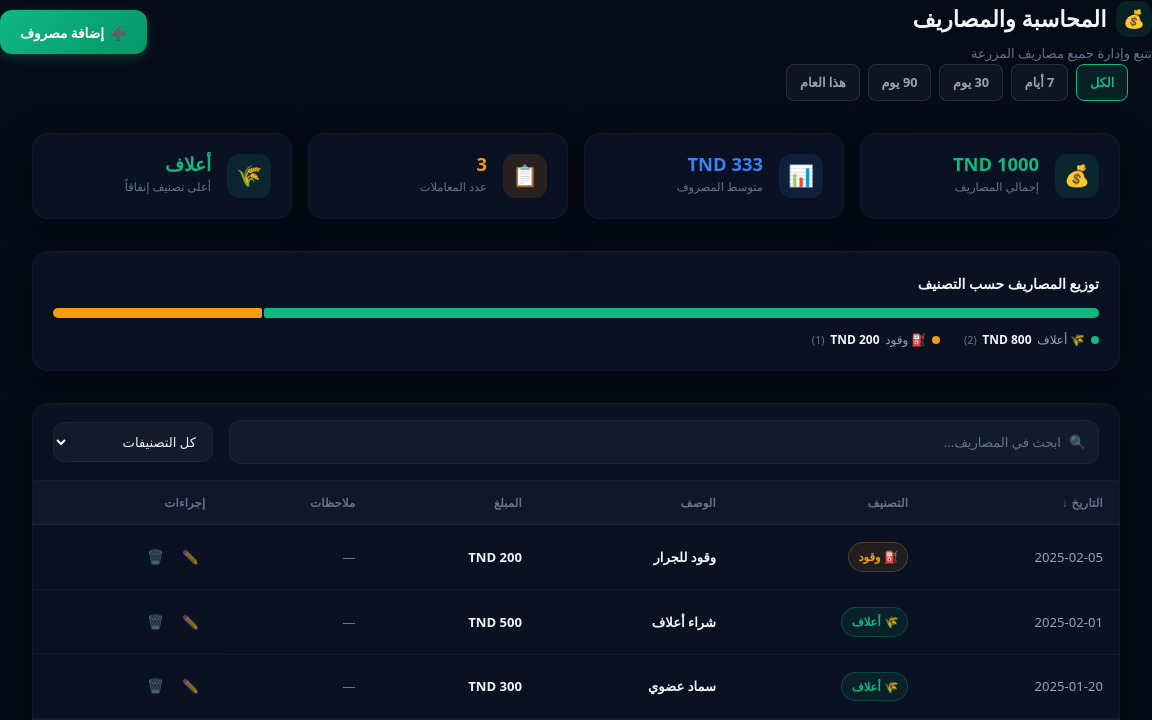
it: ClientExpenses › filters expenses by category dropdown
Select "وقود" category (cat-2)
Select "⛽ وقود" in the dropdown showing "كل التصنيفات" at coordinates (133, 442), box [53, 422, 213, 462]
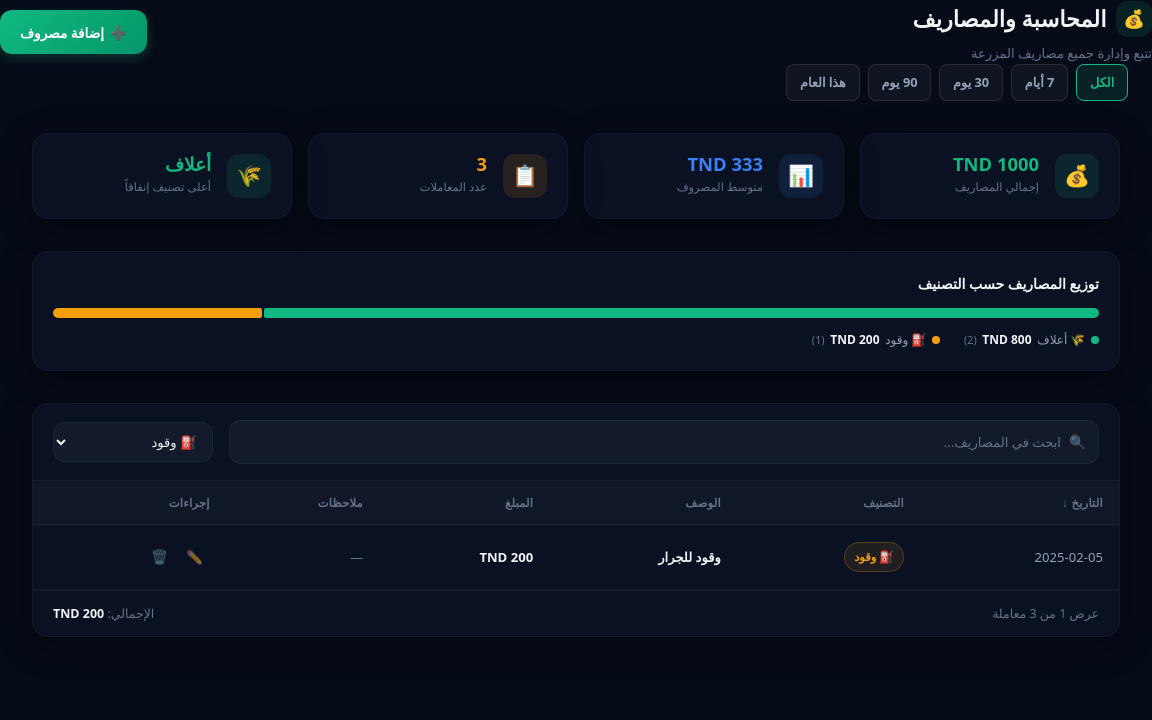
Check: the text "وقود للجرار" is shown, box [549, 525, 737, 590]
Check: the text "شراء أعلاف" is gone
Check: the text "سماد عضوي" is gone
